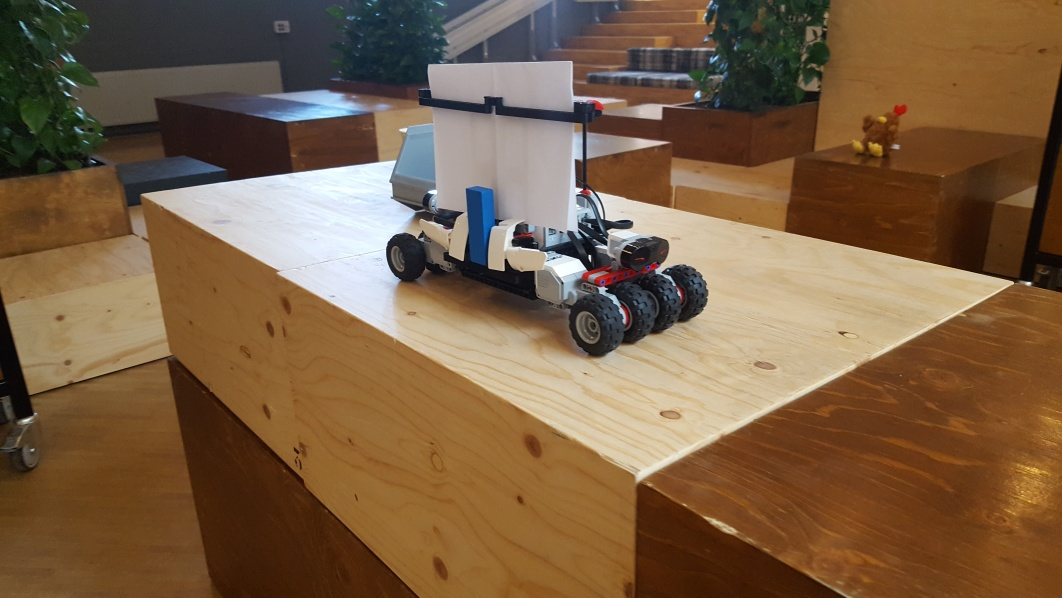car: (384, 61, 711, 355)
chicken: (850, 104, 910, 157)
